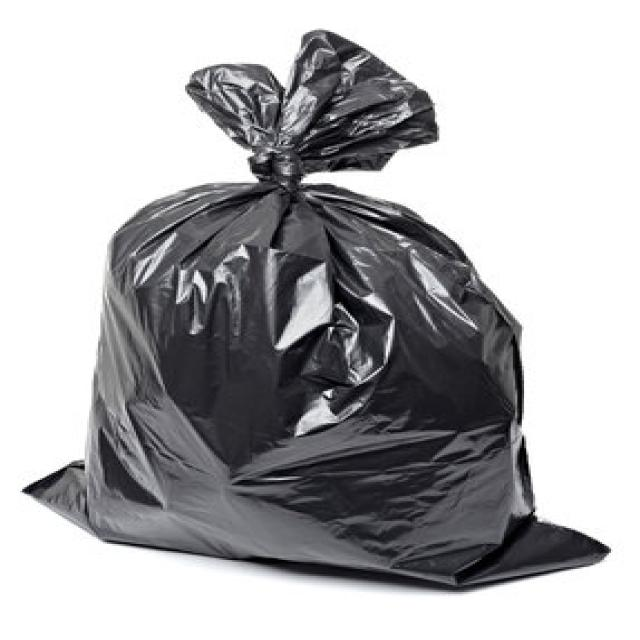trash: (78, 52, 564, 576)
